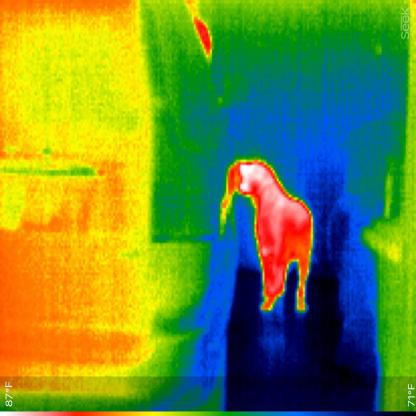dog: (233, 154, 314, 317)
